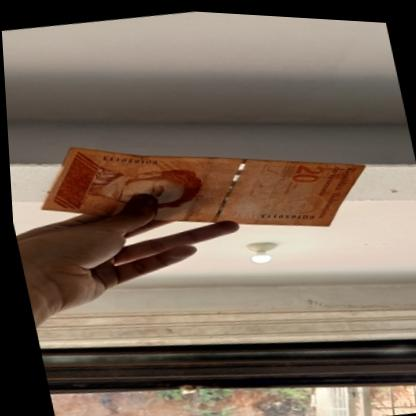twenty-front-vef: (23, 98, 377, 270)
